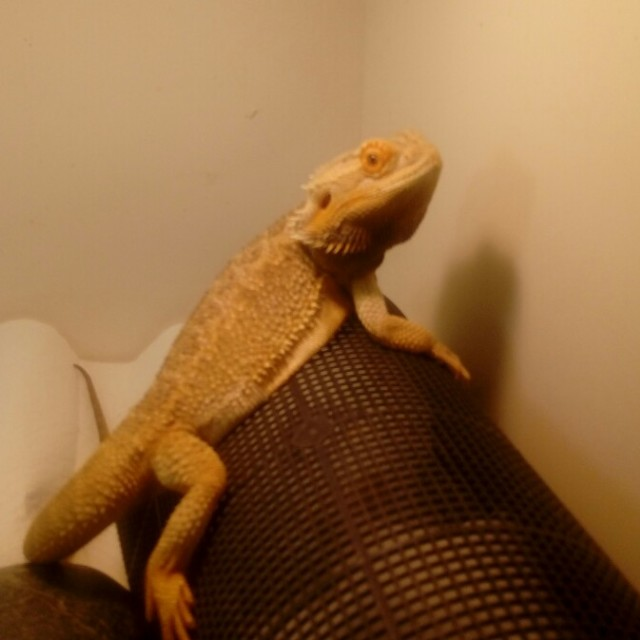bearded: (25, 123, 469, 640)
